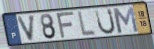8: (40, 13, 57, 41)
F: (55, 10, 76, 41)
L: (77, 9, 98, 38)
M: (111, 6, 140, 35)
U: (94, 8, 117, 36)
V: (16, 14, 37, 43)
